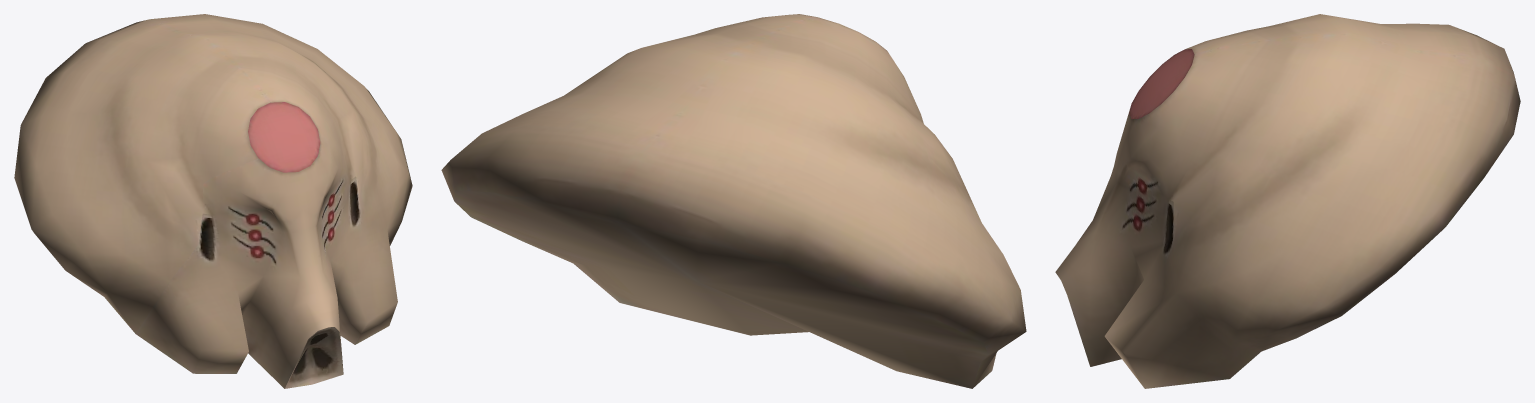
The picture shows the model from 3 angles, left to right: view 1: azimuth 30°, elevation 25°; view 2: azimuth 150°, elevation 25°; view 3: azimuth 270°, elevation 25°; orthographic projection. The views are drawn at different scales.
Parts seen in each view (by area): view 1: c26_104_00 head; view 2: c26_104_00 head; view 3: c26_104_00 head.
Boxes of the visible parts, x1,y1,x2,y2 form: c26_104_00 head: (14, 14, 412, 388); c26_104_00 head: (441, 14, 1026, 388); c26_104_00 head: (1055, 14, 1520, 388).
Bounding box in the file's own units: 2.23 × 1.55 × 2.04.
Materials: 1 (1 with a texture image).
